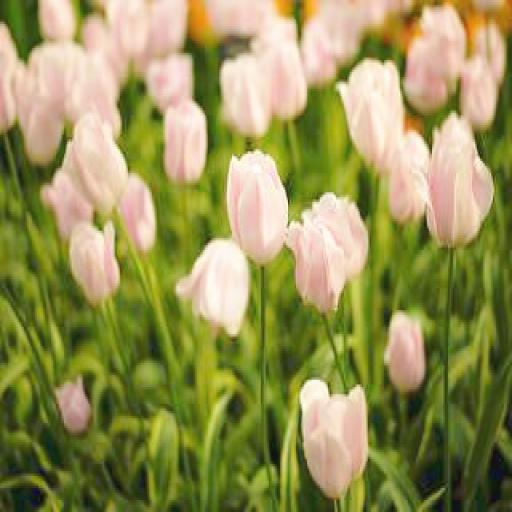tulip: (412, 111, 494, 250), (290, 195, 366, 310), (298, 380, 371, 498), (174, 235, 250, 339), (339, 56, 403, 176), (226, 149, 290, 267), (64, 106, 126, 214), (220, 53, 274, 139), (67, 221, 122, 305), (164, 101, 206, 185)
